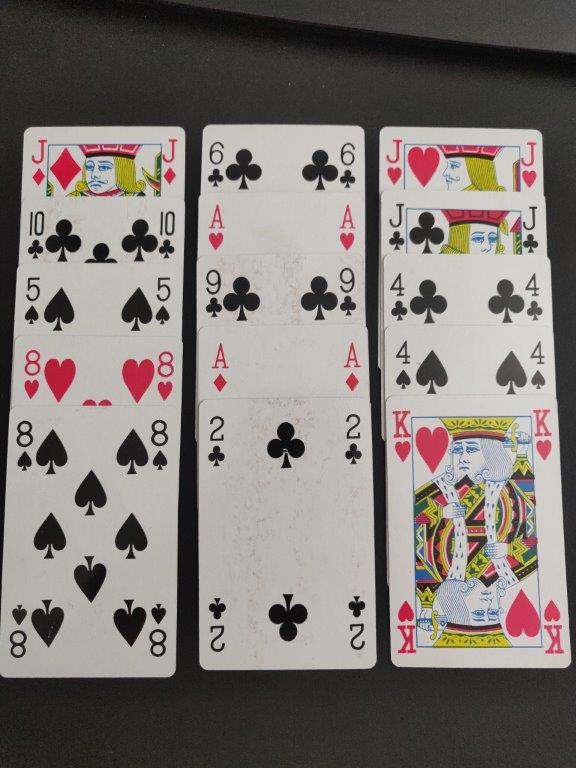10C: (23, 203, 48, 264), (154, 206, 180, 262)
2C: (341, 409, 368, 472), (203, 411, 230, 471)
4C: (387, 265, 411, 326), (522, 270, 547, 326)
4S: (525, 338, 553, 395), (389, 336, 415, 394)
5S: (152, 270, 174, 334), (20, 274, 42, 332)
6C: (203, 137, 230, 191), (335, 140, 361, 194)
8H: (18, 347, 47, 400), (154, 346, 178, 402)
8S: (146, 416, 172, 478), (12, 418, 39, 476)
9C: (201, 266, 227, 319), (337, 264, 361, 318)
AD: (203, 337, 237, 399), (337, 335, 364, 393)
AH: (333, 200, 363, 255), (203, 200, 231, 254)
JC: (384, 198, 411, 256), (519, 202, 544, 257)
JD: (157, 134, 181, 188), (26, 136, 50, 189)
JH: (381, 137, 407, 191), (517, 137, 542, 193)
KH: (388, 403, 418, 470), (526, 403, 557, 464)
